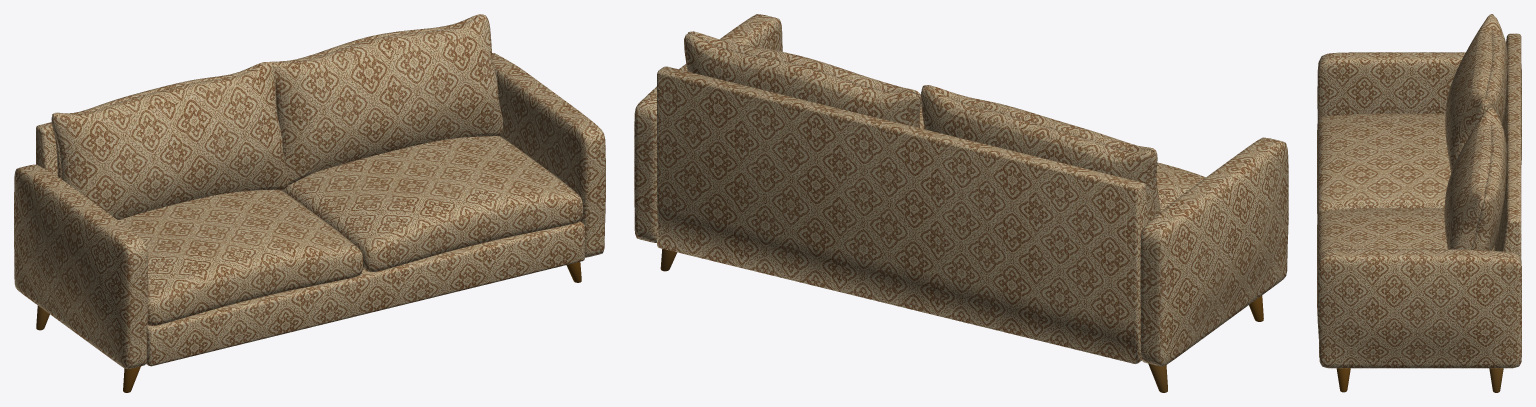
File: 53-sofa.glb
3 views of the same model, side by side, from view 1: azimuth 30°, elevation 25°; view 2: azimuth 150°, elevation 25°; view 3: azimuth 270°, elevation 25° (orthographic). The views are drawn at different scales.
Visible parts, largest first — view 1: Cube.009, Cylinder.004; view 2: Cube.009, Cylinder.006; view 3: Cube.009, Cylinder.006, Cylinder.004.
Part boxes in pixels (x1=…): Cube.009: x1=14, y1=14, x2=605, y2=369; Cylinder.004: x1=123, y1=262, x2=581, y2=392; Cube.009: x1=634, y1=14, x2=1288, y2=366; Cylinder.006: x1=660, y1=249, x2=1167, y2=392; Cube.009: x1=1317, y1=14, x2=1521, y2=368; Cylinder.006: x1=1489, y1=368, x2=1503, y2=392; Cylinder.004: x1=1336, y1=368, x2=1350, y2=392.
Bounding box in the file's own units: 2.04 × 0.8597 × 0.8296.
3 materials, 1 textured.
